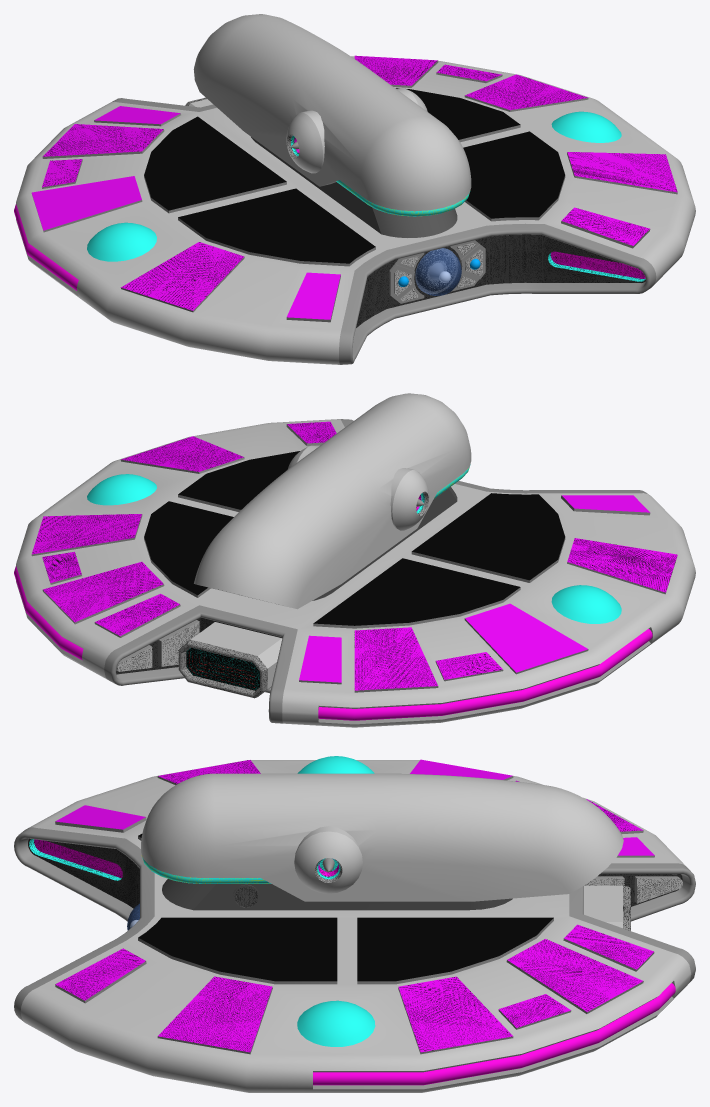
The model's file is tankAlien.dae.
The picture shows the model from 3 angles, top to bottom: view 1: azimuth 30°, elevation 25°; view 2: azimuth 150°, elevation 25°; view 3: azimuth 270°, elevation 25°; orthographic projection. The views are drawn at different scales.
Parts seen in each view (by area): view 1: SketchUp (×30); view 2: SketchUp (×33); view 3: SketchUp (×28).
Boxes of the visible parts, x1=… form: SketchUp (×30): x1=14, y1=14, x2=695, y2=364; SketchUp (×33): x1=14, y1=393, x2=695, y2=727; SketchUp (×28): x1=14, y1=756, x2=695, y2=1092.
Bounding box in the file's own units: 2735 × 2545 × 807.
